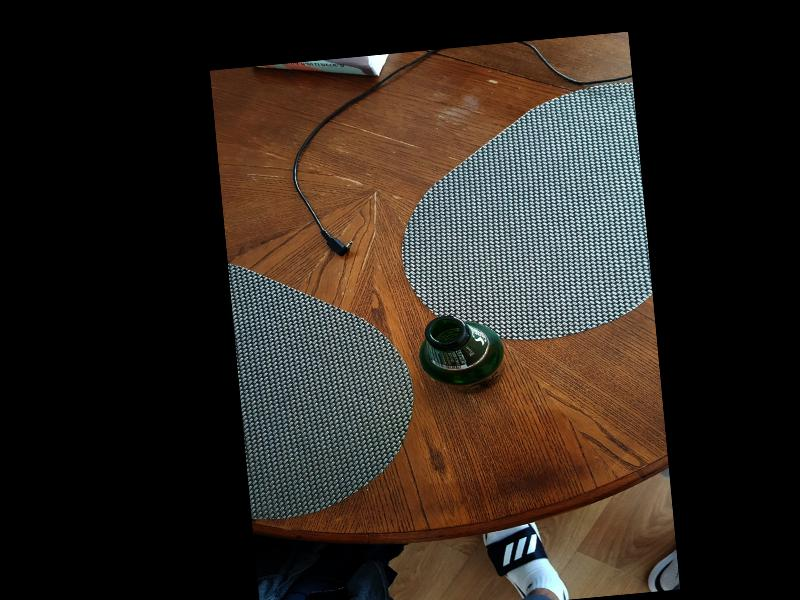Beer: (415, 311, 506, 396)
